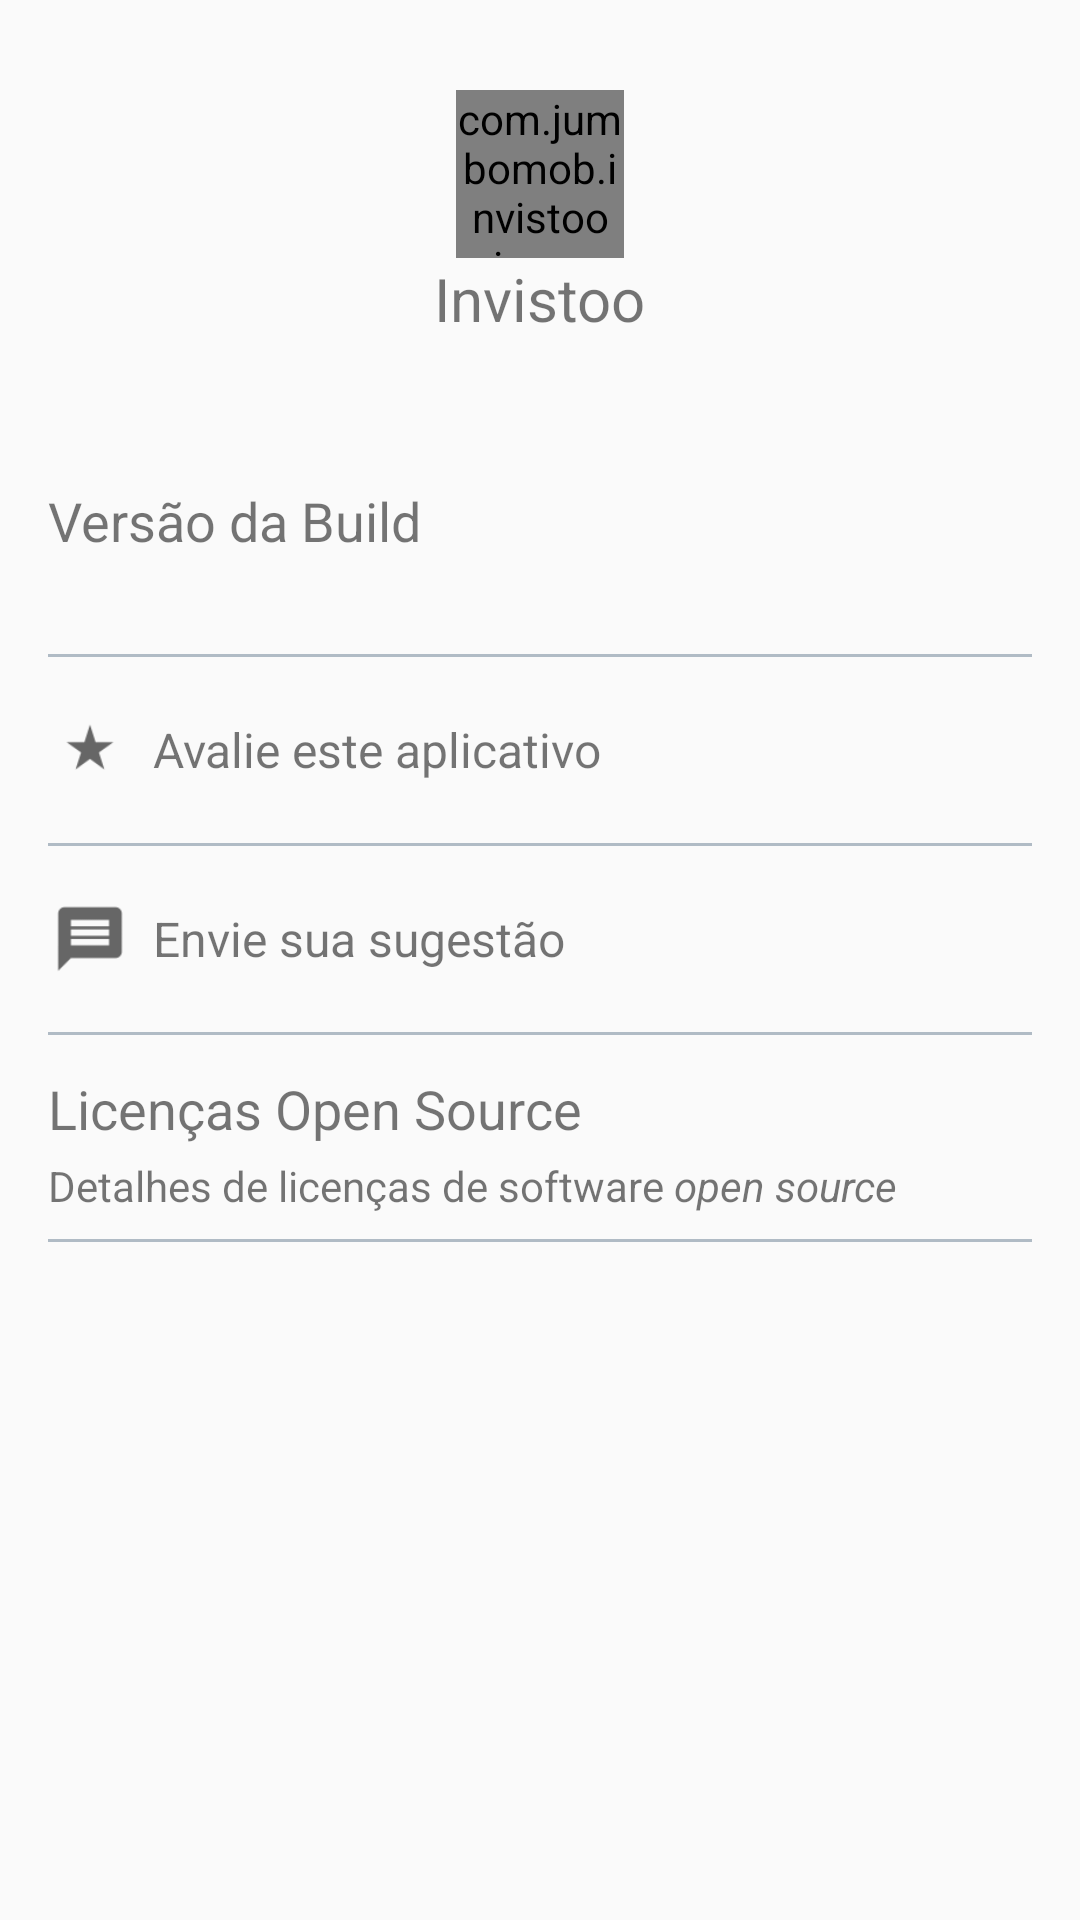

Icon bounding boxes for this 1080*1920 phone screenshot, format (x1, y1, x2, y2):
message: (57, 906, 123, 971)
star: (67, 725, 113, 769)
